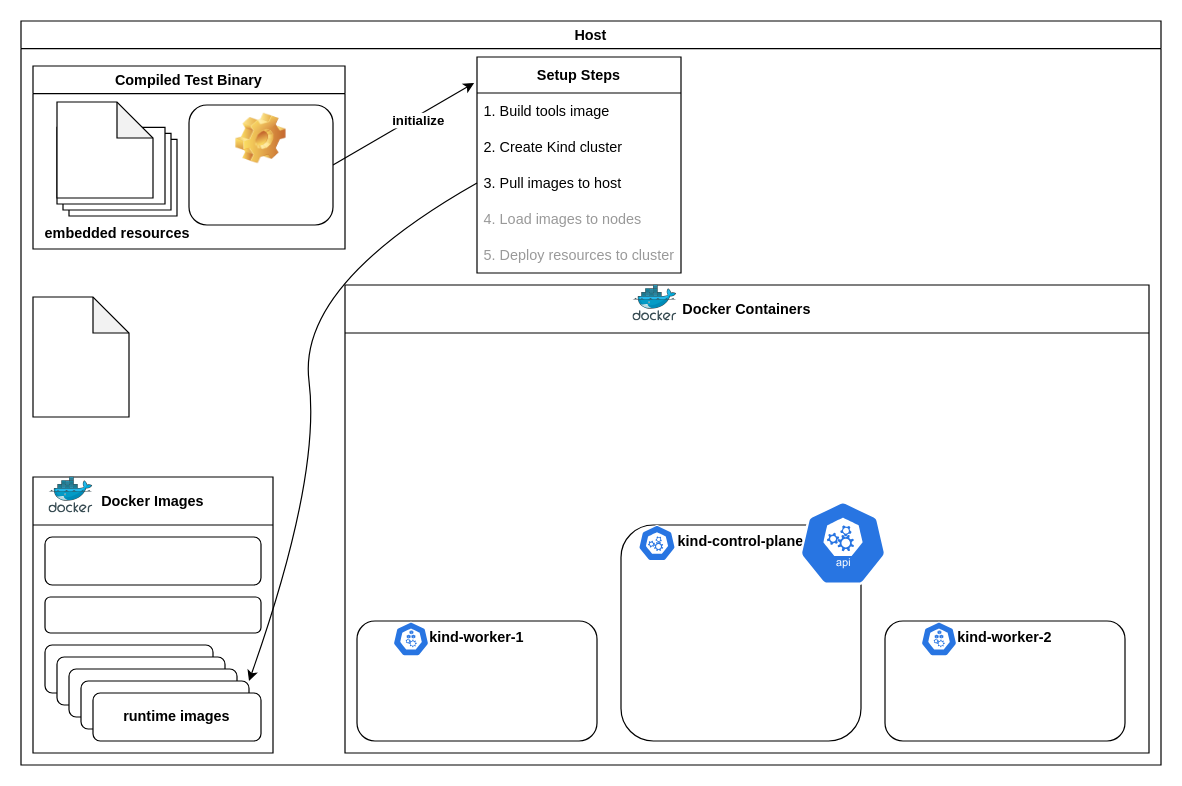
The diagram is 1182 pixels wide and 786 high, and some of its shapes have lost their labels. Here are the shapes that lost their labels. From the top down, the centre of each, then its label:
At pixel 104 149: "Dockerfile".
At pixel 260 164: "TestMain".
At pixel 80 356: "kubeconfig".
At pixel 152 560: "aks-periscope-test-tools docker, kind, helm, kubectl, osm".
At pixel 152 614: "kind-node-image".
